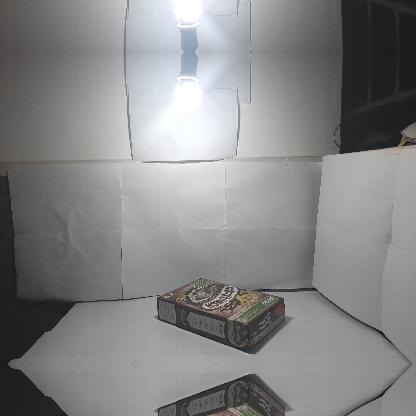Koko-Krunch: (157, 278, 285, 352), (157, 376, 286, 415)
